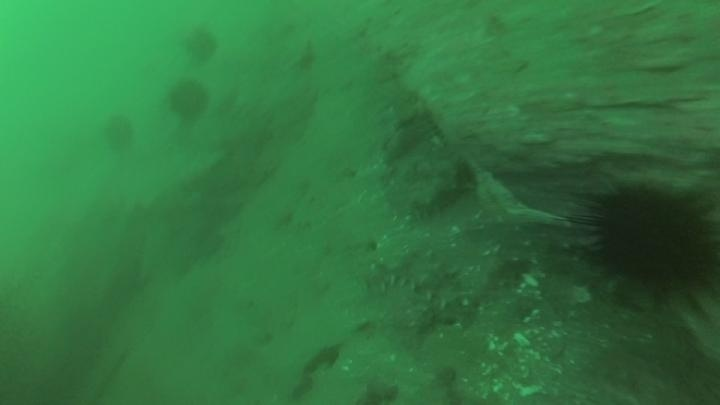echinus: (575, 176, 720, 306), (164, 77, 211, 124), (180, 24, 221, 67), (100, 111, 138, 155)
holothurian: (366, 246, 476, 315), (406, 157, 475, 222)
